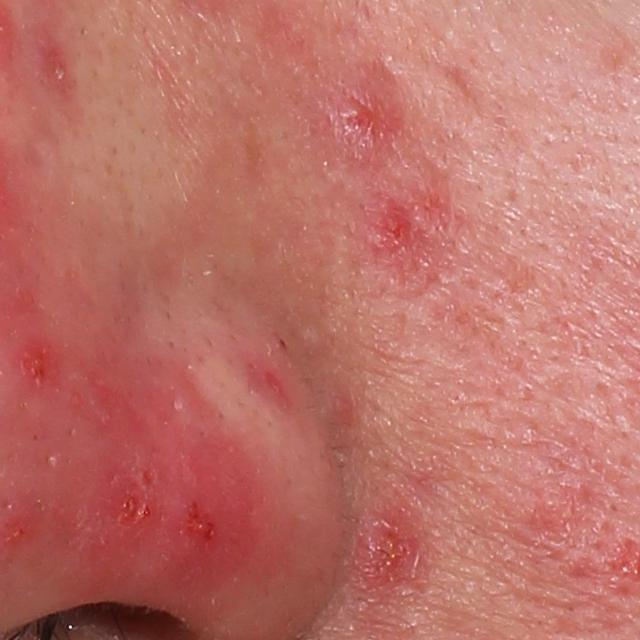papule: (326, 84, 401, 156), (351, 514, 419, 592), (360, 196, 418, 260), (8, 343, 68, 394)
